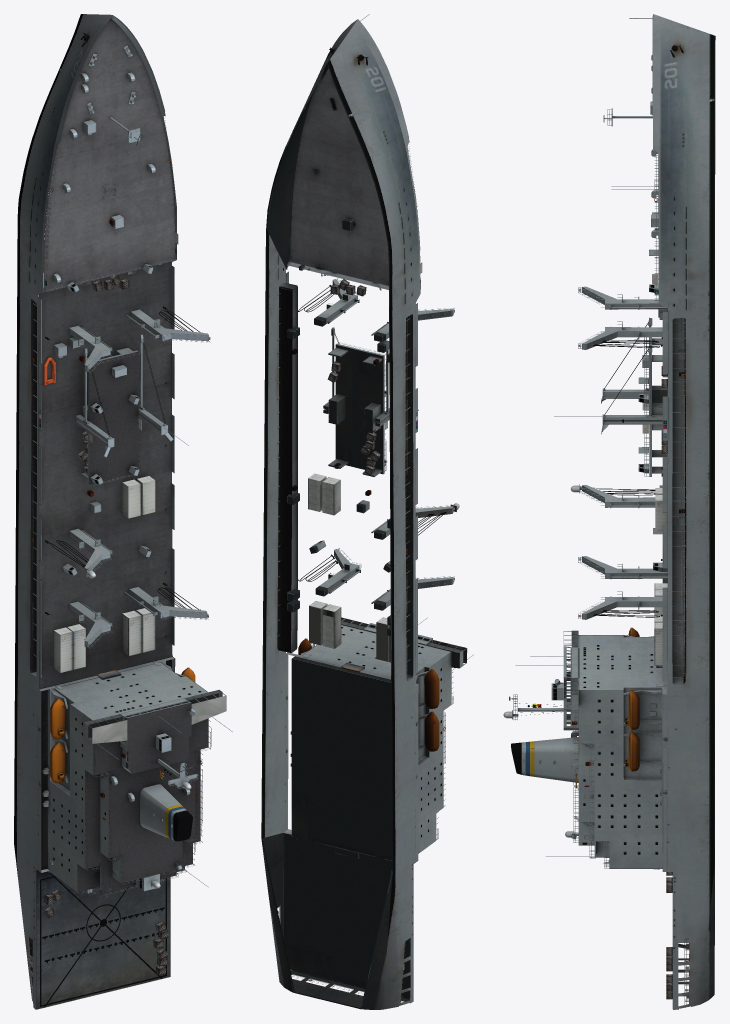
Rendered from usns_patuxent.glb.
The picture shows the model from 3 angles, left to right: view 1: azimuth 30°, elevation 25°; view 2: azimuth 150°, elevation 25°; view 3: azimuth 270°, elevation 25°; orthographic projection. The views are drawn at different scales.
Visible parts, largest first — view 1: OceanSupplyShip; view 2: OceanSupplyShip; view 3: OceanSupplyShip.
Boxes of the visible parts, x1,y1,x2,y2 form: OceanSupplyShip: [14, 14, 232, 1009]; OceanSupplyShip: [261, 14, 473, 1009]; OceanSupplyShip: [503, 14, 715, 1009].
Size of the model in its own units: 29.37 by 193 by 38.46.
1 material, 1 textured.
